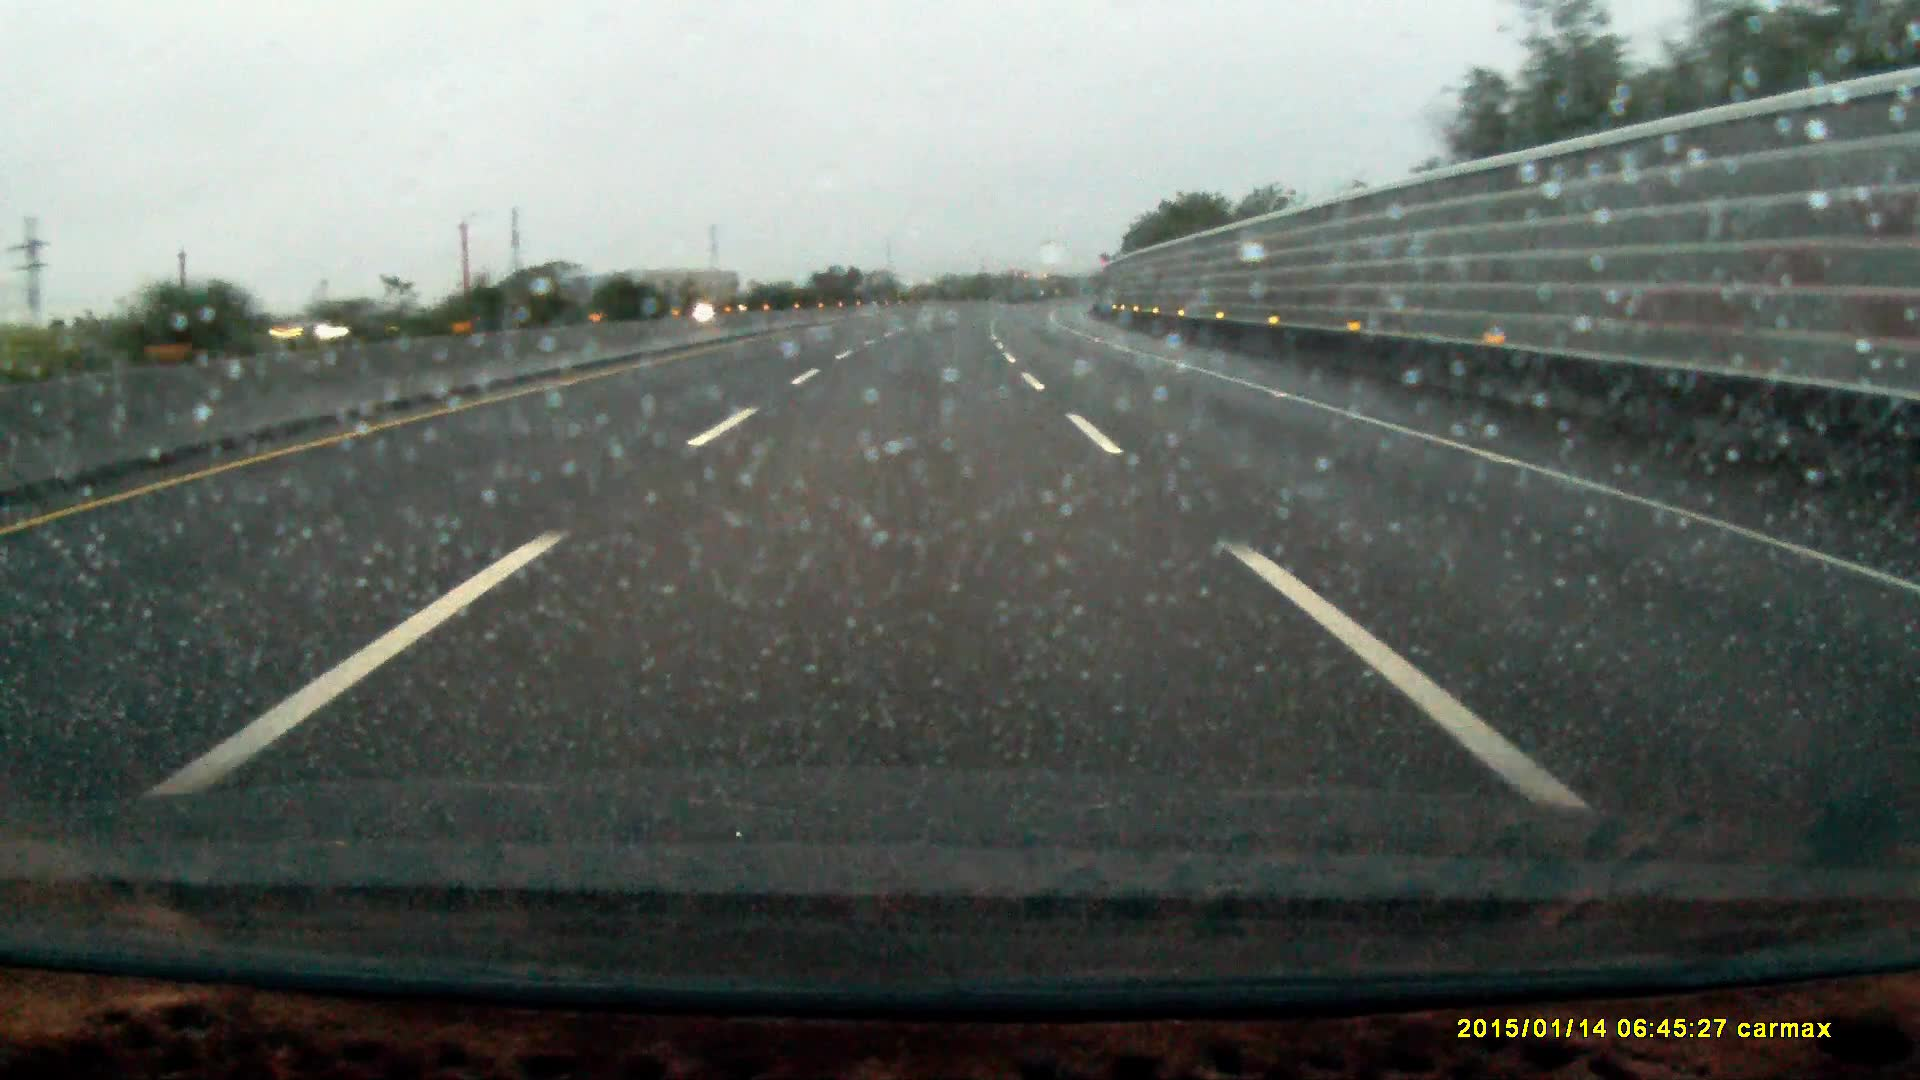vehicle: (262, 301, 425, 349)
